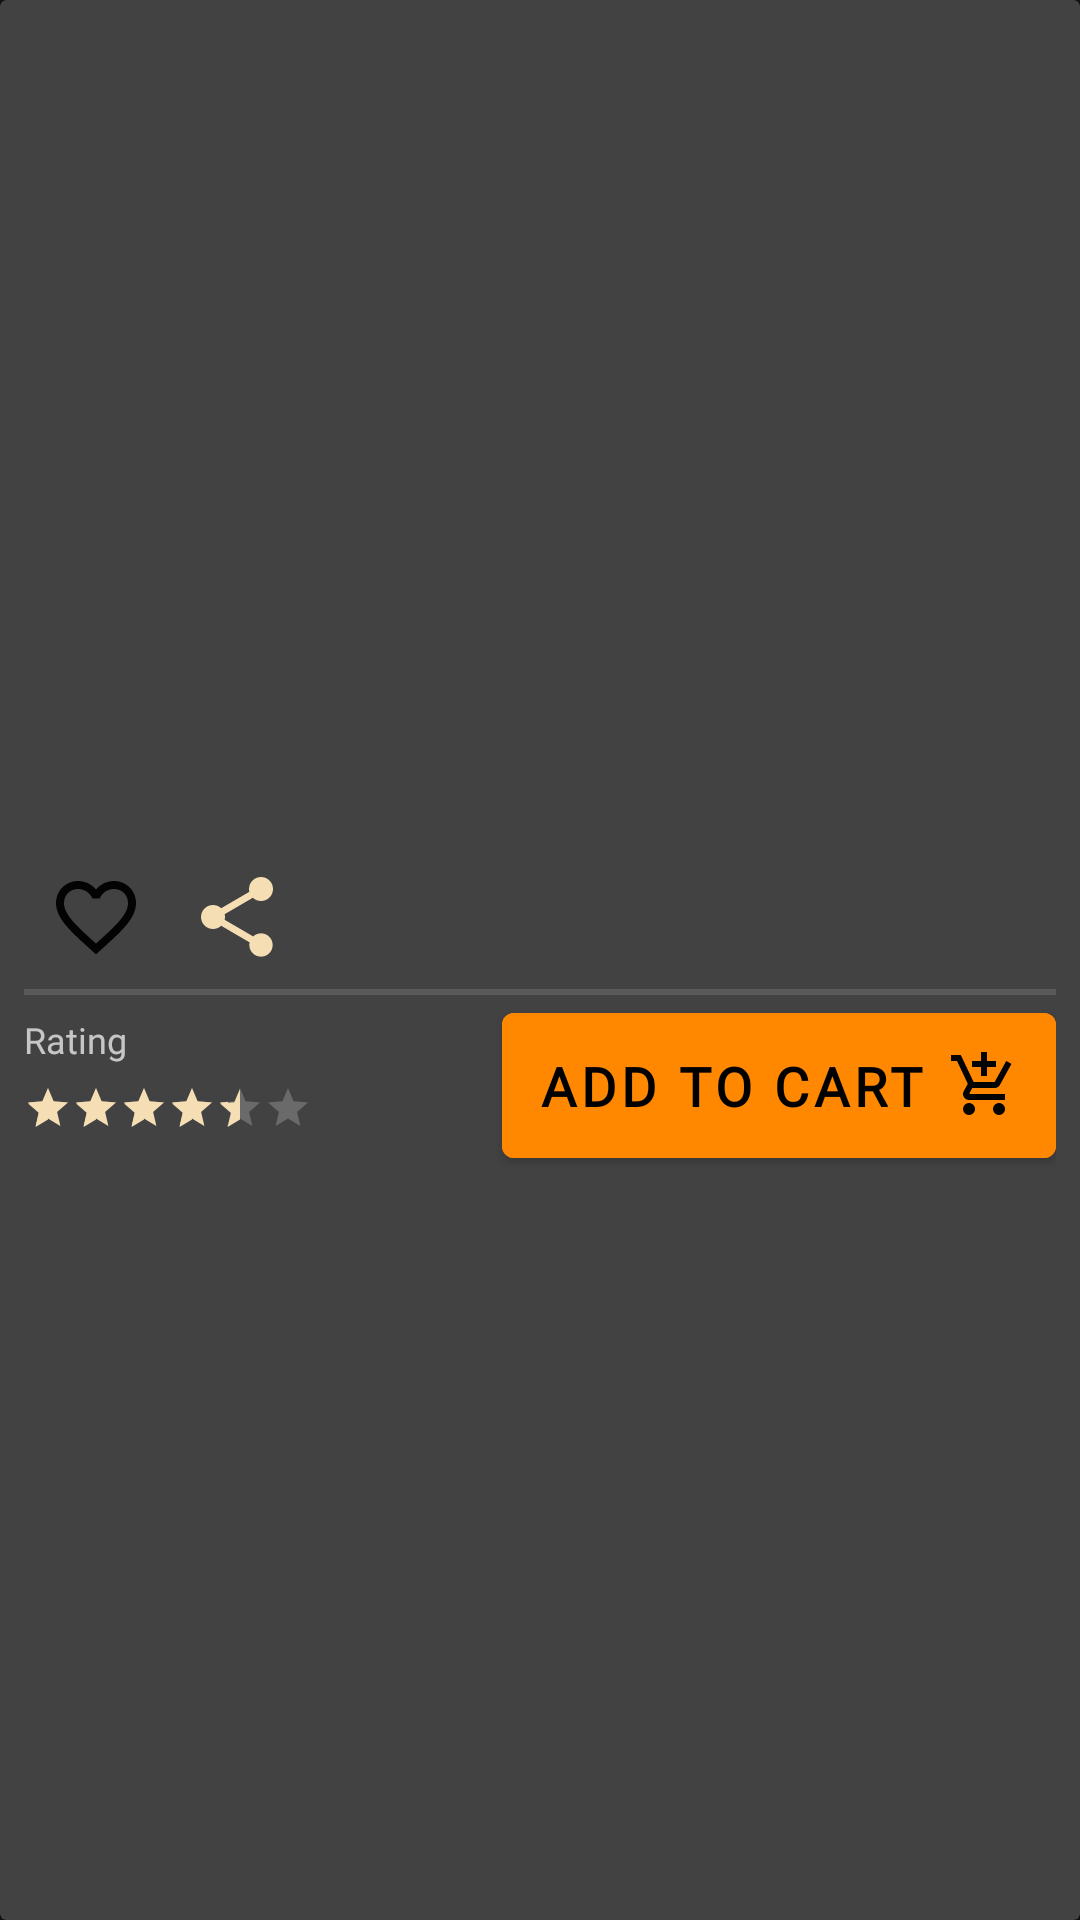

Locate icon controls on the screen. Image size 1080*1920, boxes as detection(x1, y1, x2, y2).
like toggle: detection(56, 881, 136, 954)
share: detection(201, 877, 273, 957)
